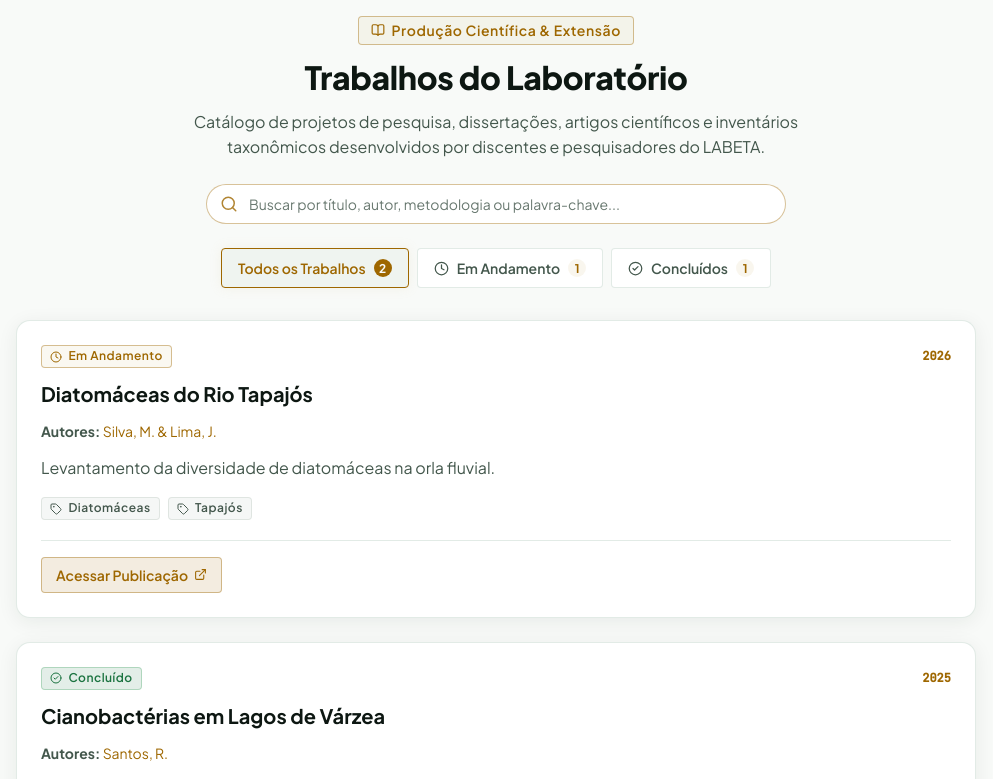
Test case: Works Page Integration › filters works by status tab
Expected: the heading "Diatomáceas do Rio Tapajós" is shown, [41,381,313,406]
Click the tab "Em Andamento 1" at (510, 268), box [417,248,603,288]
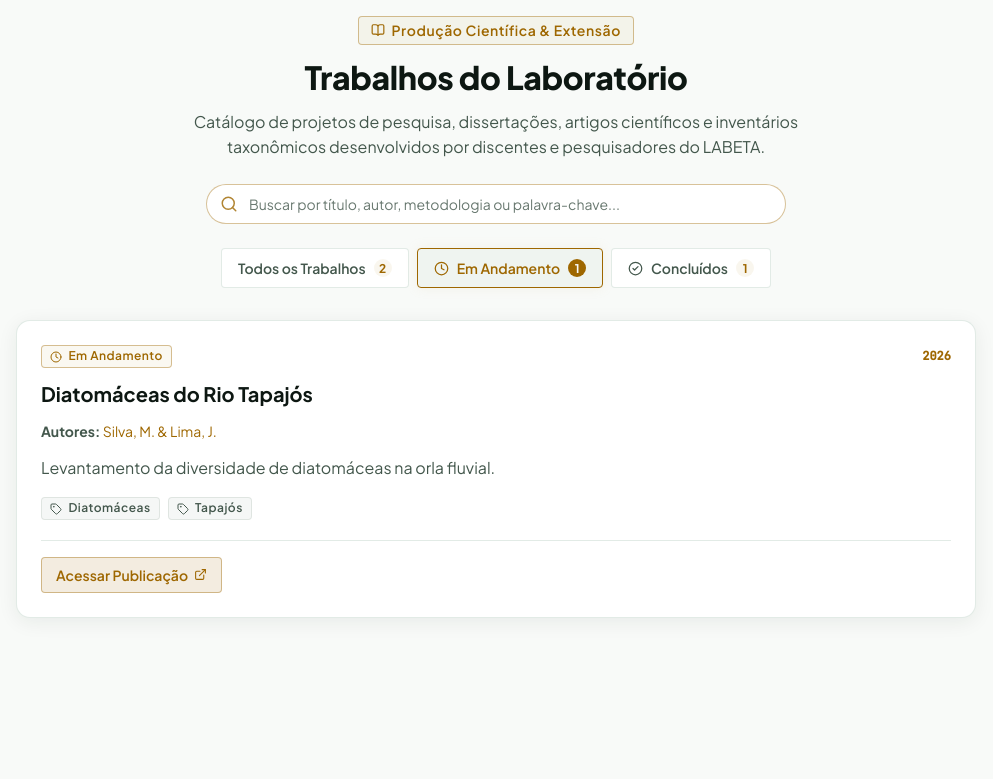
Expected: the heading "Diatomáceas do Rio Tapajós" is shown, [41,381,313,406]
Expected: the heading "Cianobactérias em Lagos de Várzea" is gone
